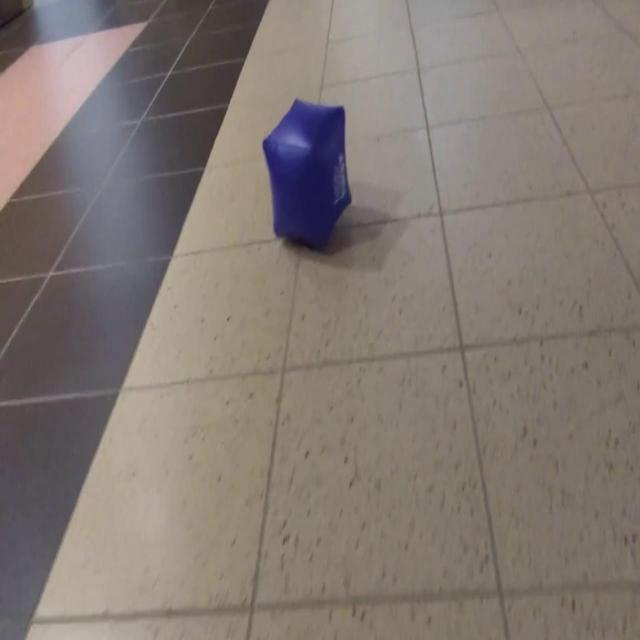frc_cube: (260, 100, 354, 250)
